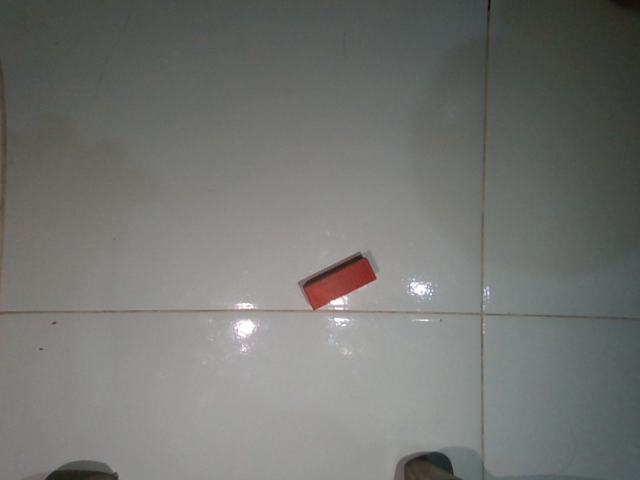Balok-Merah: (302, 256, 374, 312)
